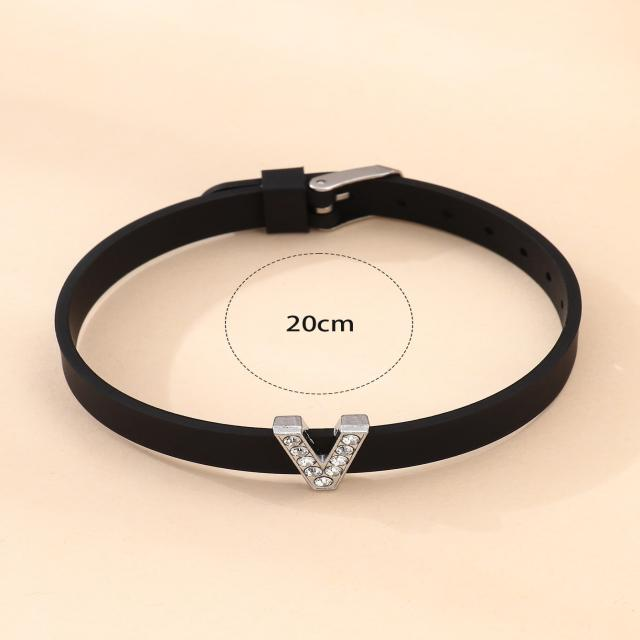bracelet: (13, 121, 640, 539)
